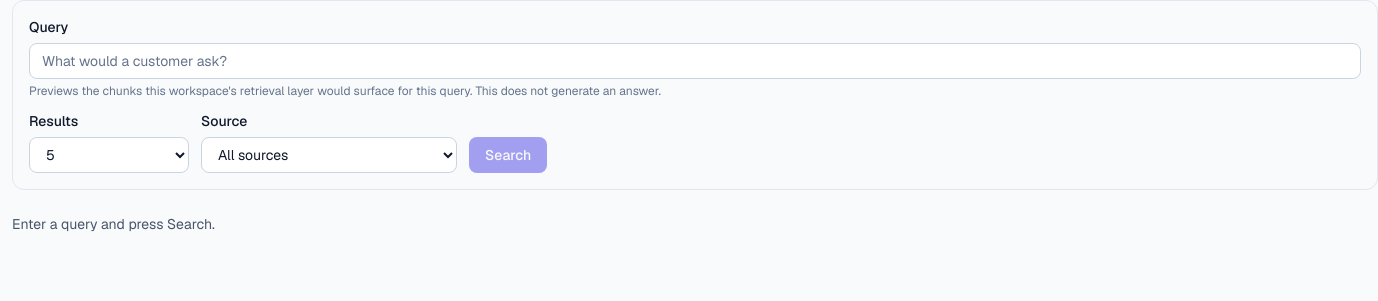
Test: KnowledgeSearchPanel › shows a safe error for a failed retrieval, and never retries automatically
Type "refund" into the search field labelled "Query". click: (695, 61)
box: [29,43,1361,79]
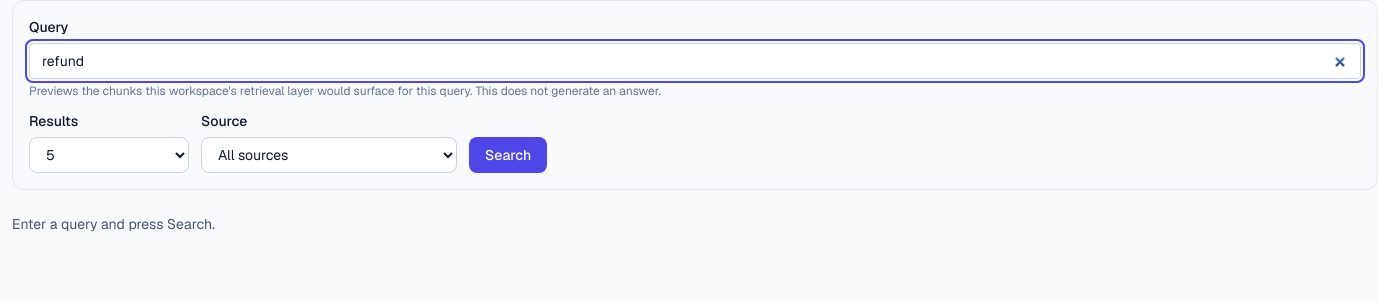
Click the button "Search". click: (508, 155)
box: [469,137,547,173]
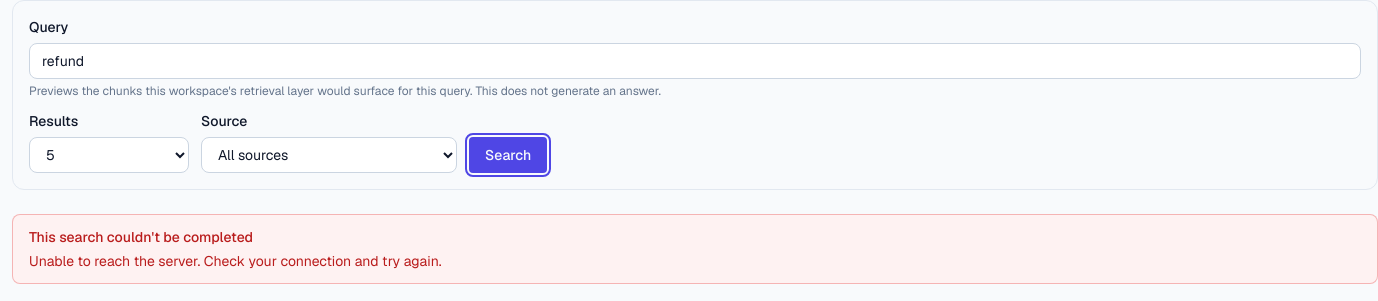
Expected: the text "This search couldn't be completed" is shown, [29,228,253,246]
